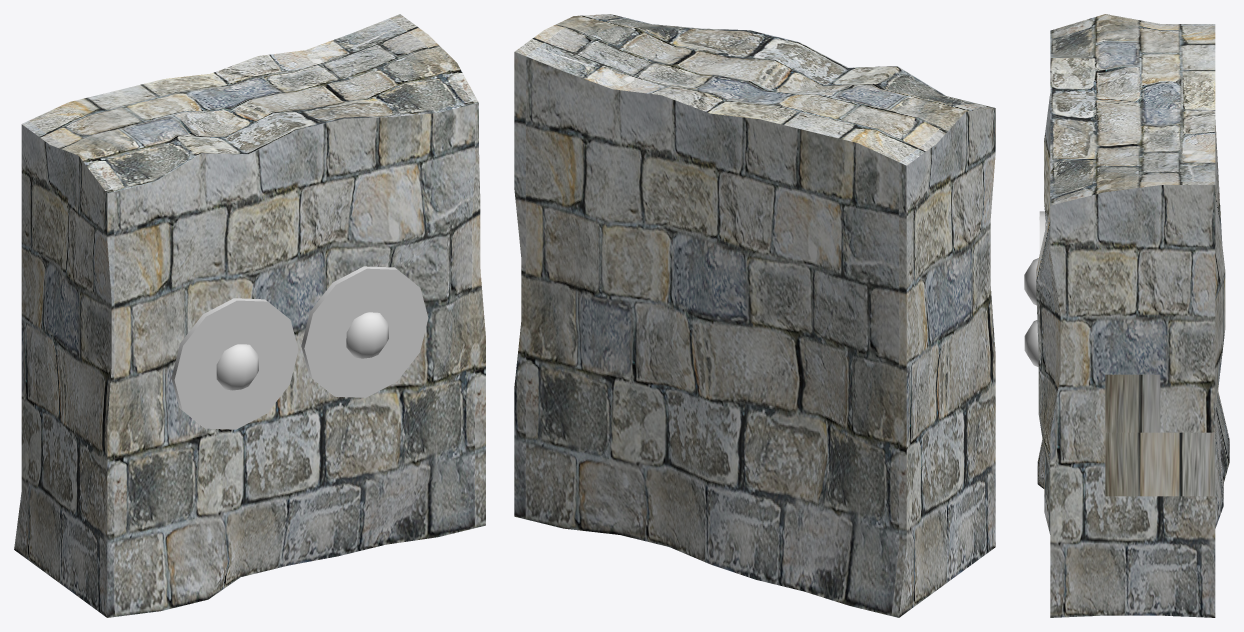
The model's file is muro2.fbx.
3 views of the same model, side by side, from view 1: azimuth 30°, elevation 25°; view 2: azimuth 150°, elevation 25°; view 3: azimuth 270°, elevation 25° (orthographic). The views are drawn at different scales.
Parts seen in each view (by area): view 1: Box001, Cylinder001, Cylinder002, Sphere001, Sphere002; view 2: Box001; view 3: Box001, Sphere002, Sphere001.
Boxes of the visible parts, left/top/right/bottom form: Box001: left=14, top=14, right=485, bottom=617; Cylinder001: left=171, top=298, right=298, bottom=429; Cylinder002: left=301, top=266, right=428, bottom=397; Sphere001: left=216, top=344, right=258, bottom=390; Sphere002: left=346, top=312, right=388, bottom=358; Box001: left=514, top=14, right=995, bottom=617; Box001: left=1036, top=14, right=1229, bottom=617; Sphere002: left=1024, top=320, right=1038, bottom=366; Sphere001: left=1024, top=258, right=1038, bottom=305.
Bounding box in the file's own units: 1.81 × 2.03 × 0.875.
1 material, 1 textured.
